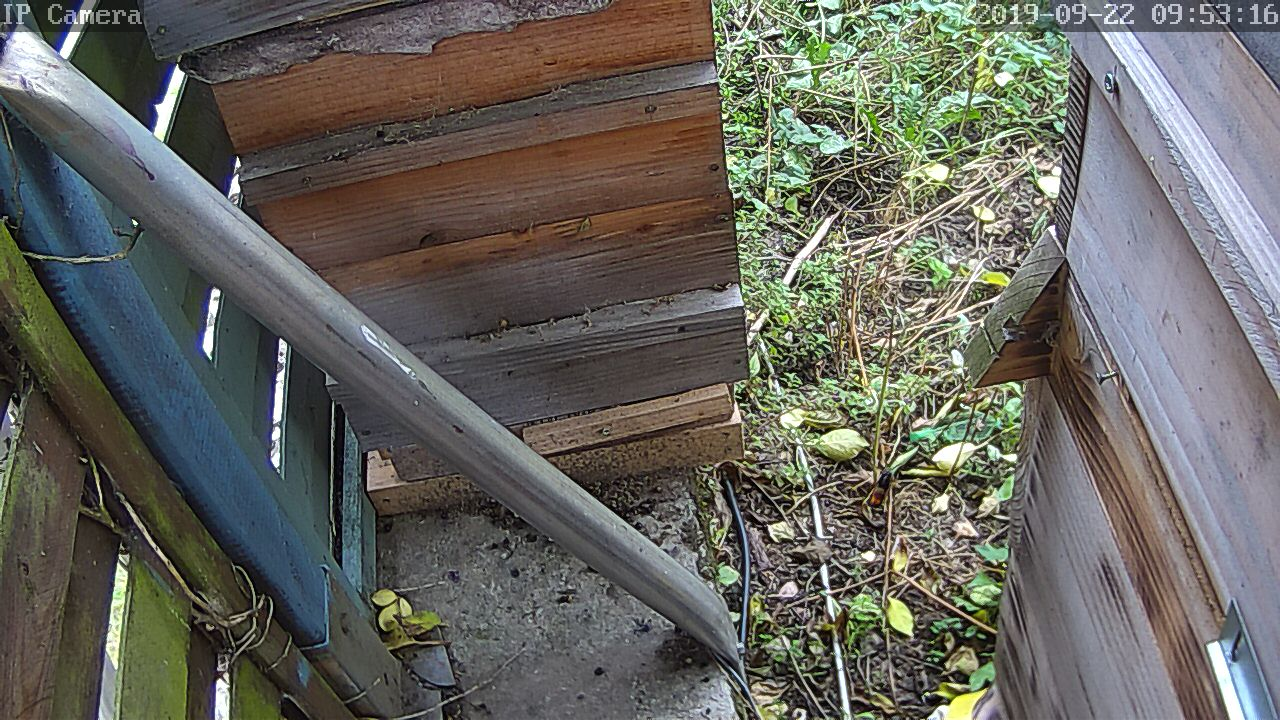hornet: (863, 462, 899, 510)
